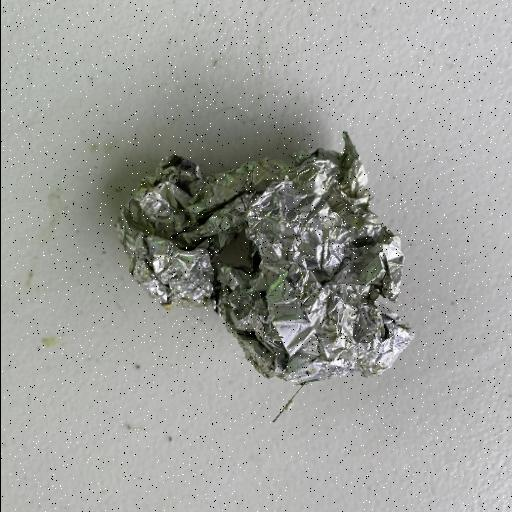Metal: (112, 130, 416, 388)
